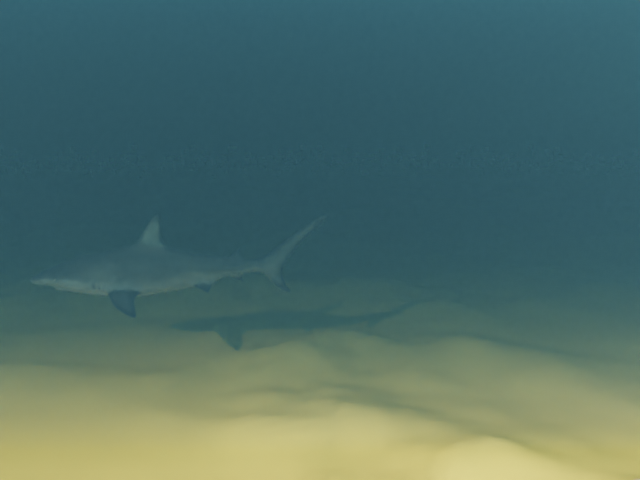Carribean Shark.001: (29, 214, 327, 318)
